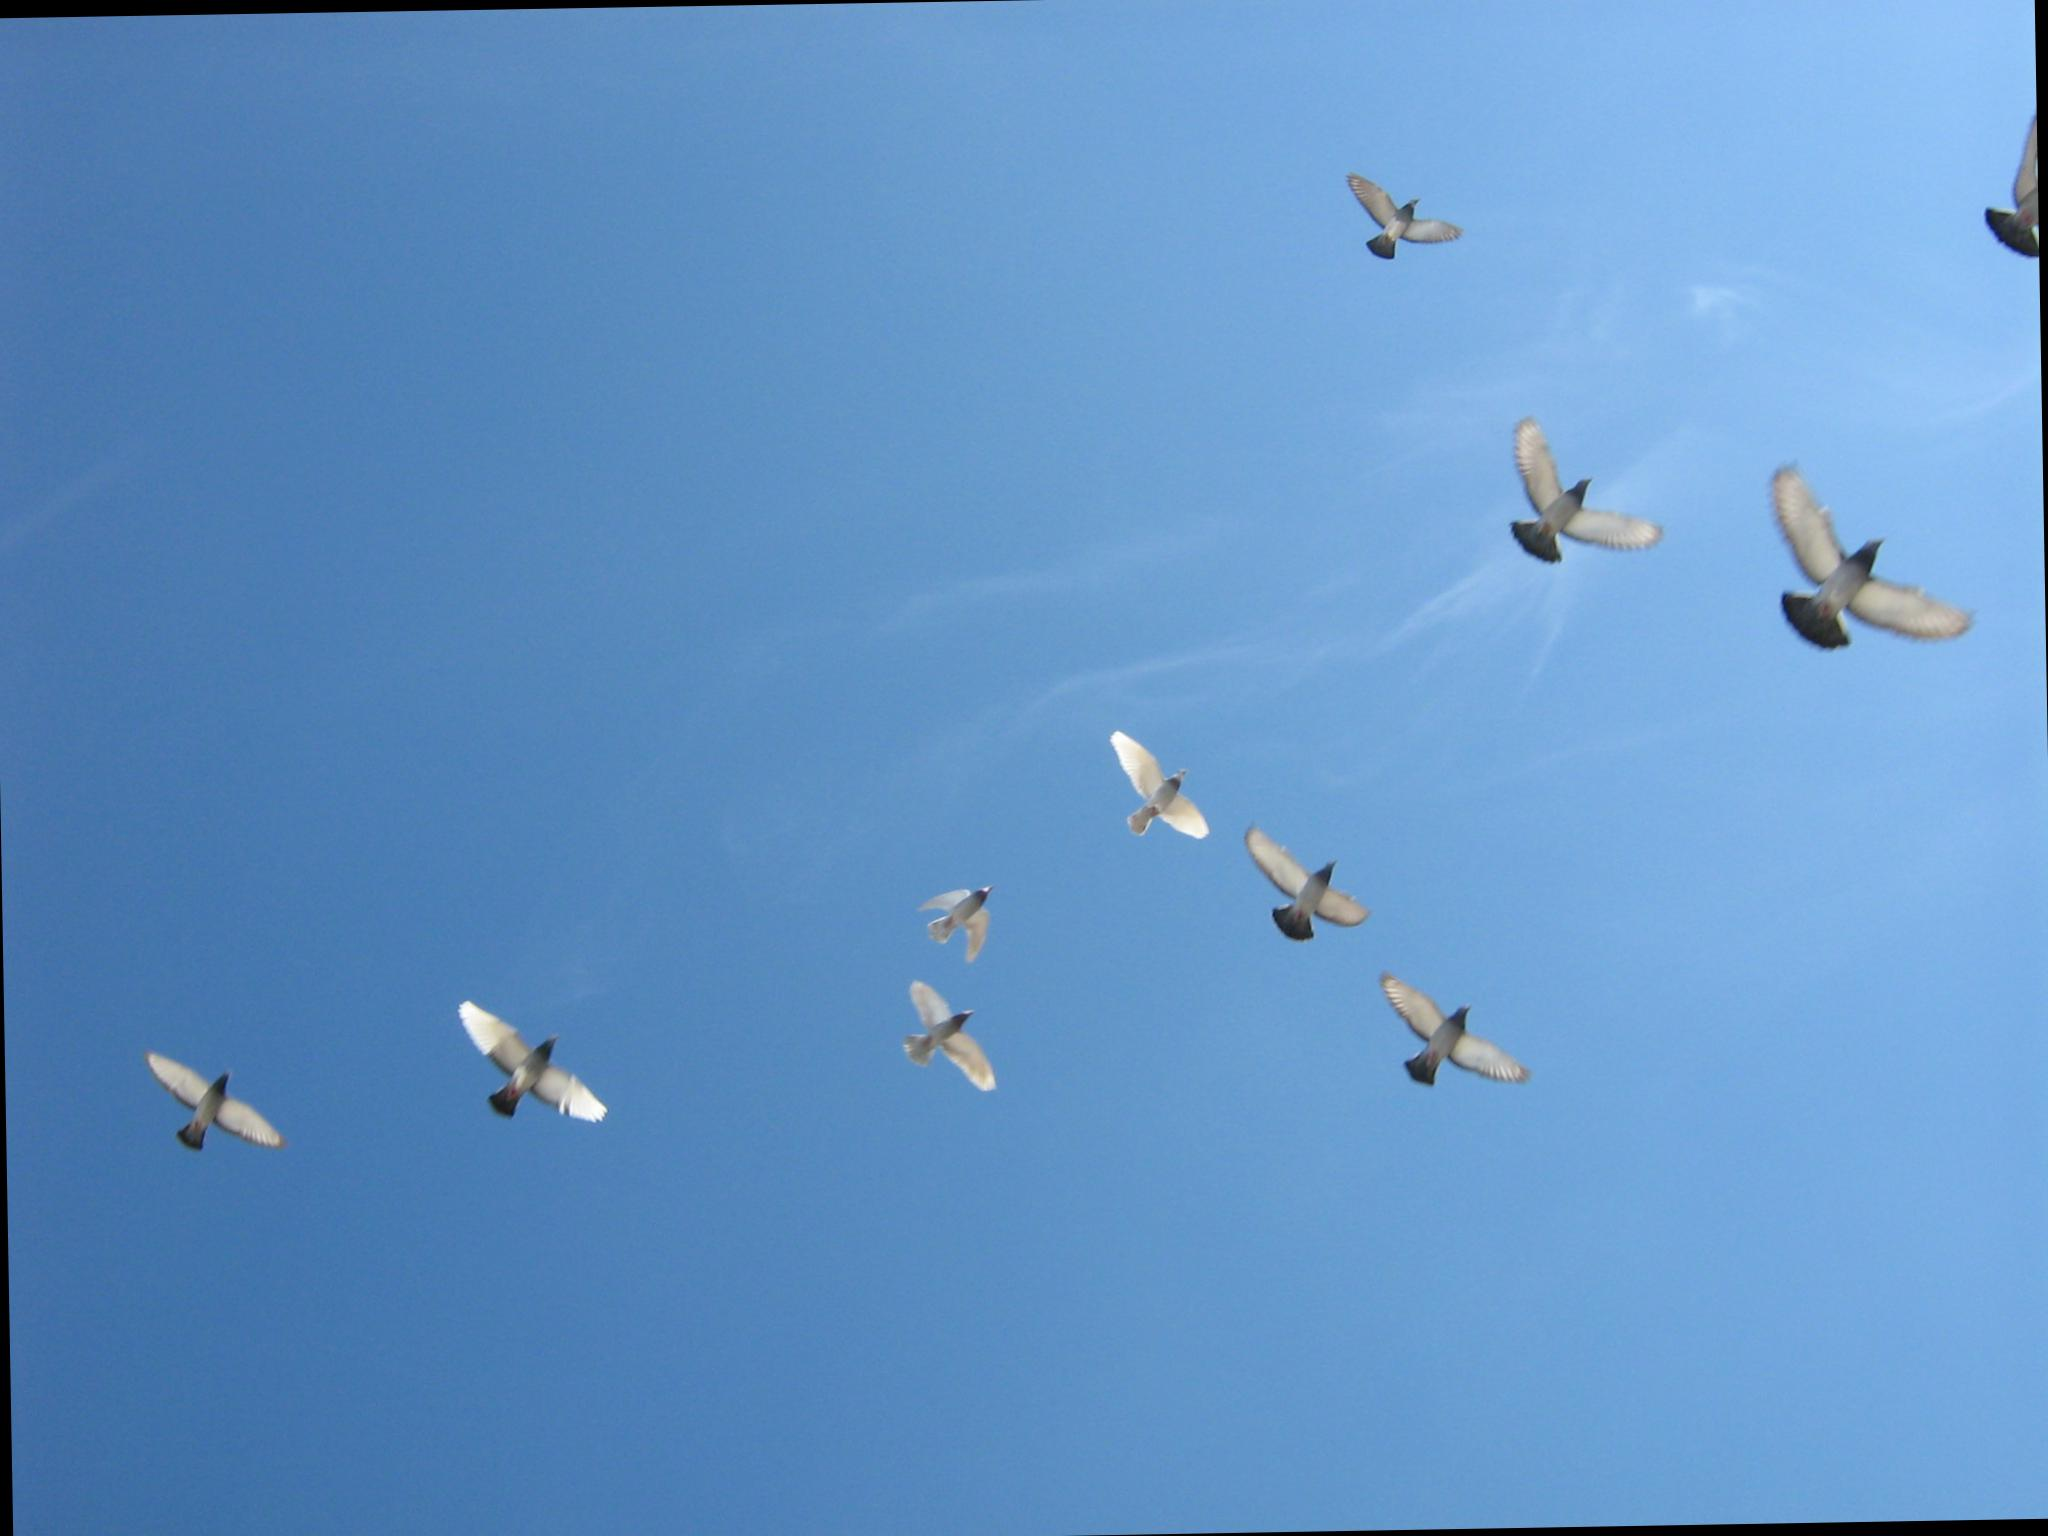bird: (1745, 440, 2000, 712), (406, 968, 618, 1167), (1484, 395, 1672, 613), (1361, 954, 1546, 1129), (118, 1026, 306, 1194), (1322, 145, 1488, 286), (1079, 713, 1224, 868), (871, 957, 1009, 1102)
